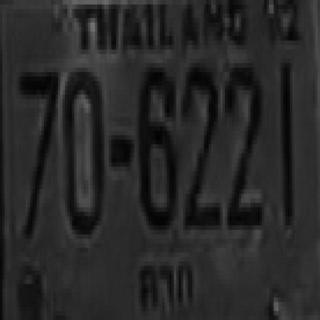N00: (62, 68, 102, 230)
N01: (280, 59, 294, 221), (280, 59, 291, 221)
N02: (225, 61, 260, 228), (182, 63, 217, 225)
N06: (137, 63, 176, 225)
N07: (17, 68, 57, 234)
P69: (131, 253, 197, 316)
